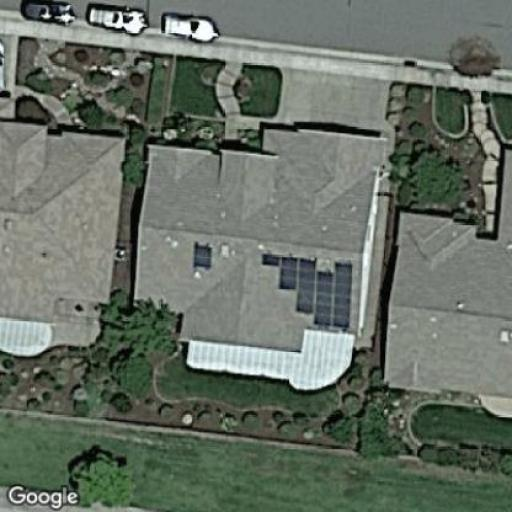solar-panel: (260, 252, 355, 330), (192, 241, 214, 272)
